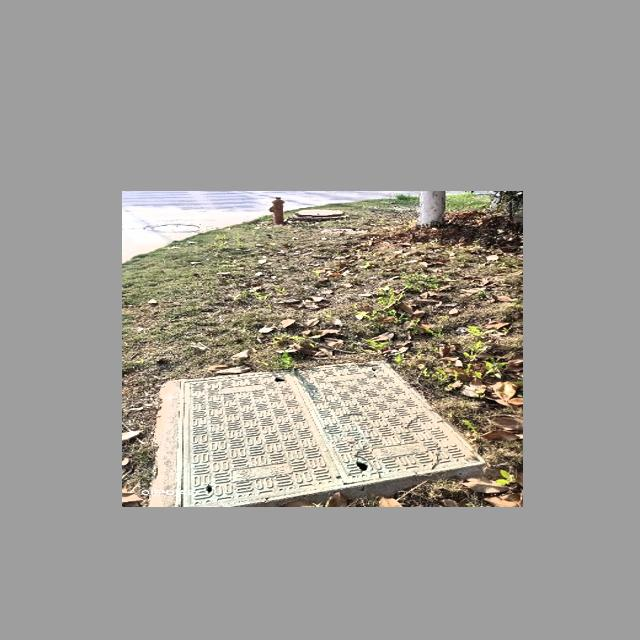good: (174, 358, 488, 507)
